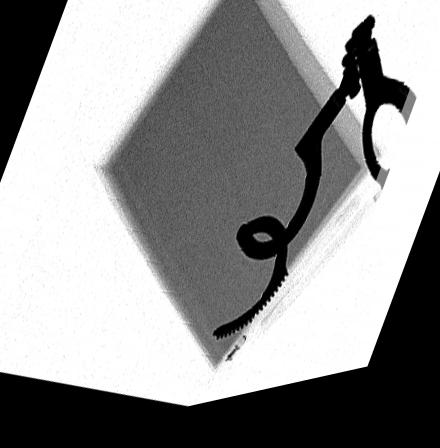HandCuffs: (211, 31, 415, 350)
